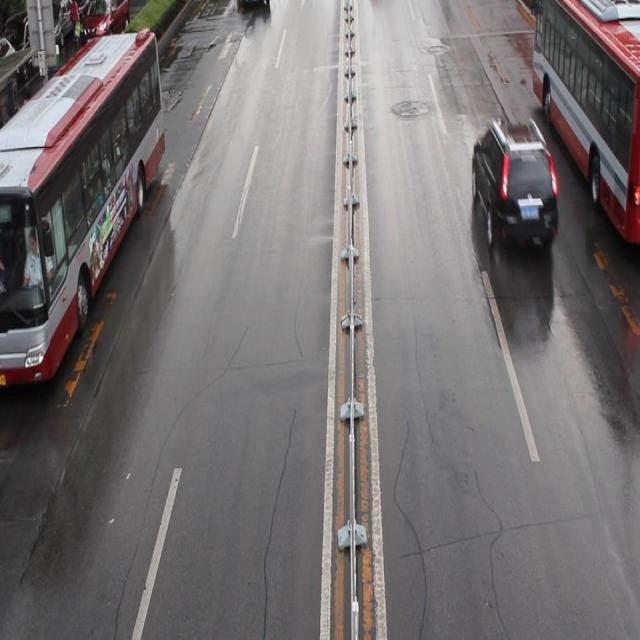car: (472, 119, 557, 250), (82, 1, 129, 42)
van: (1, 31, 165, 384), (531, 2, 640, 240)
